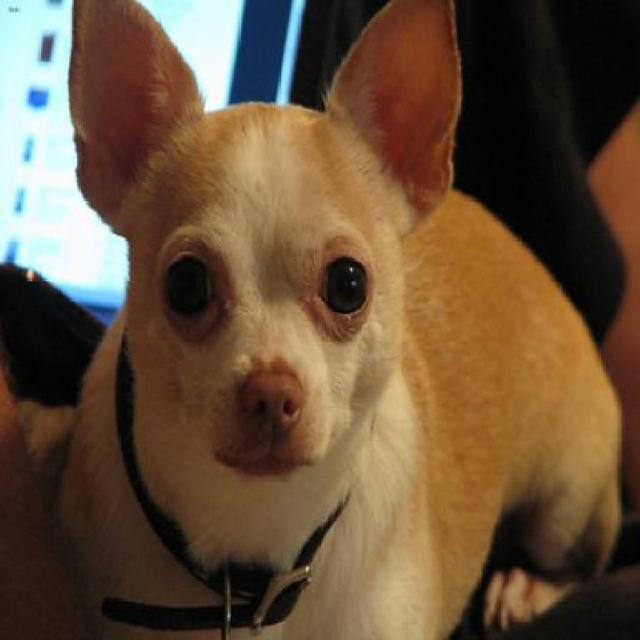Dog: (55, 0, 629, 638)
